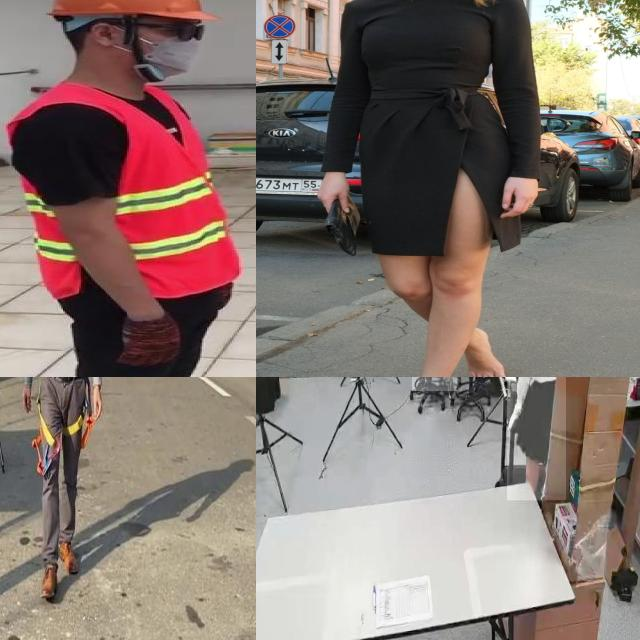Barefoots: (463, 327, 507, 377)
Harness: (32, 414, 94, 476)
No_Ear-Protection: (83, 18, 127, 50)
head_helmet: (38, 0, 204, 21)
person: (0, 0, 256, 377), (507, 377, 566, 501)
vest: (0, 87, 244, 297)
